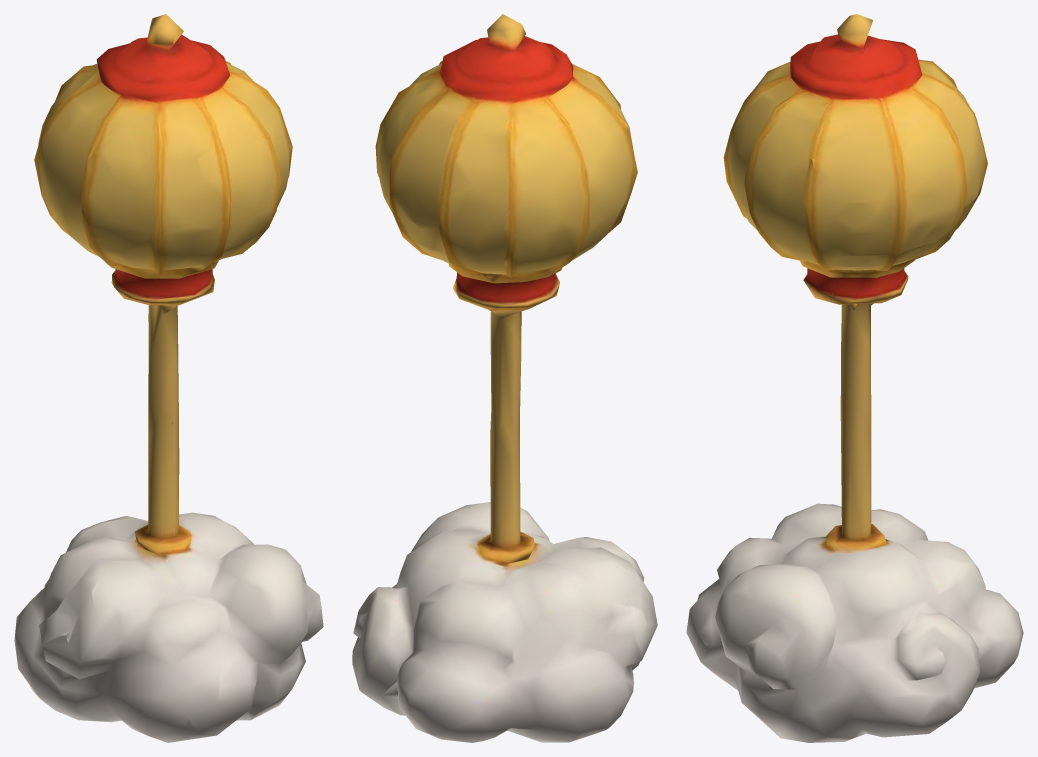
The model's file is sky-lamp.glb.
The picture shows the model from 3 angles, left to right: view 1: azimuth 30°, elevation 25°; view 2: azimuth 150°, elevation 25°; view 3: azimuth 270°, elevation 25°; orthographic projection.
Visible parts, largest first — view 1: tripo_node_167623a5-bb13-4409-8c1c-c67a789ffcc7; view 2: tripo_node_167623a5-bb13-4409-8c1c-c67a789ffcc7; view 3: tripo_node_167623a5-bb13-4409-8c1c-c67a789ffcc7.
Part boxes in pixels (x1,y1,x2,y2): tripo_node_167623a5-bb13-4409-8c1c-c67a789ffcc7: [14, 14, 323, 742]; tripo_node_167623a5-bb13-4409-8c1c-c67a789ffcc7: [352, 14, 657, 742]; tripo_node_167623a5-bb13-4409-8c1c-c67a789ffcc7: [686, 14, 1023, 742].
Size of the model in its own units: 0.3859 by 1 by 0.4441.
1 material, 1 textured.
